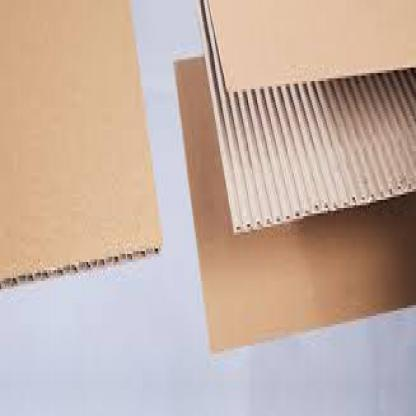CARDBOARD: (172, 54, 414, 351), (194, 0, 415, 233), (0, 0, 161, 287)
